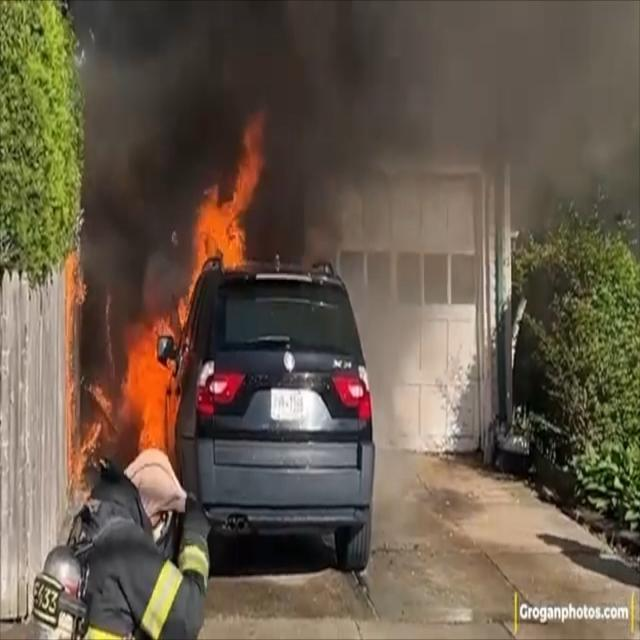fire: (63, 118, 269, 488)
